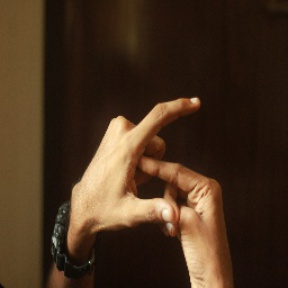E: (122, 87, 217, 235)
